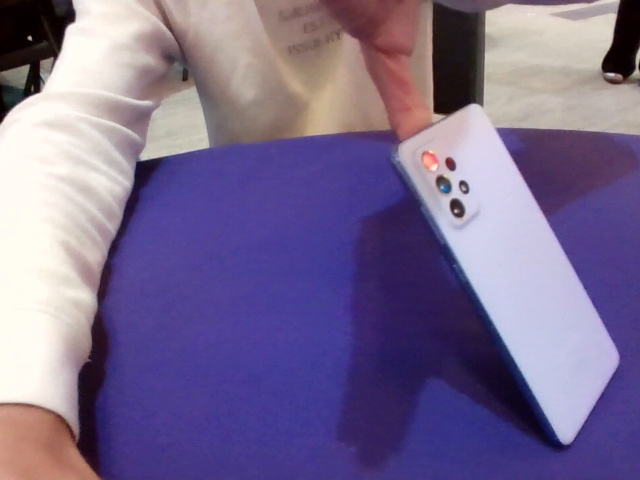celular: (387, 102, 628, 451)
